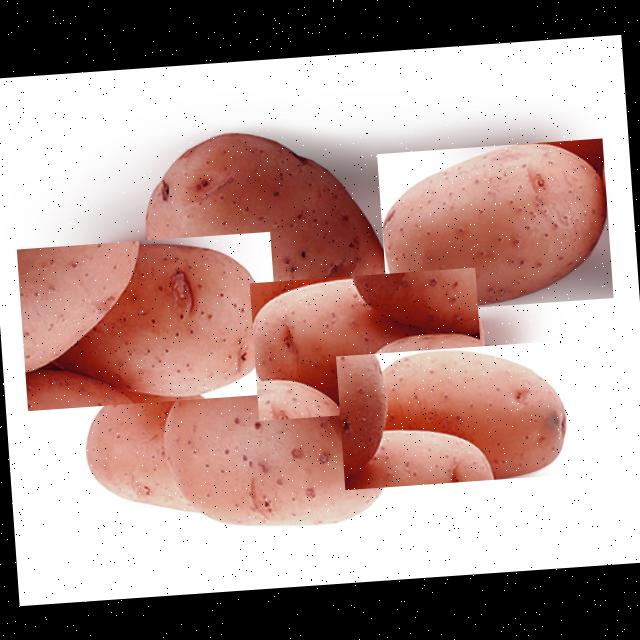Defected potato: (136, 120, 392, 367), (16, 232, 281, 410), (78, 360, 357, 525), (157, 349, 392, 536), (376, 138, 614, 313), (250, 268, 484, 420), (336, 340, 570, 490)
